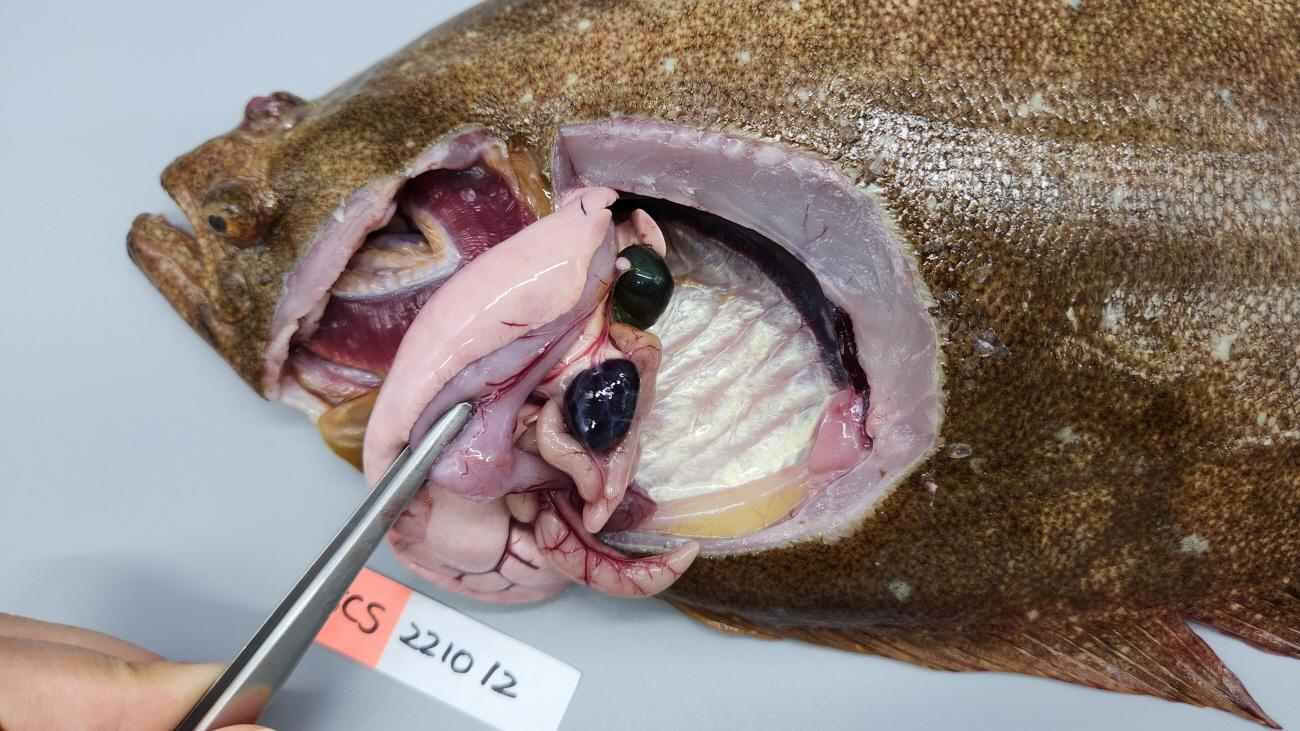VISPE: (559, 359, 633, 454)
